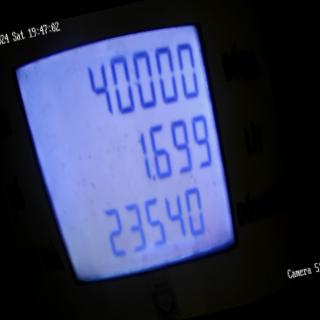screen: (4, 5, 256, 303)
